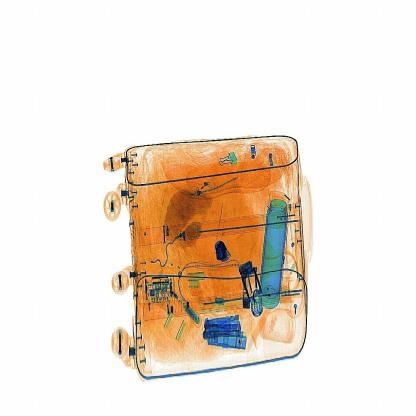scissors: (211, 236, 232, 267)
